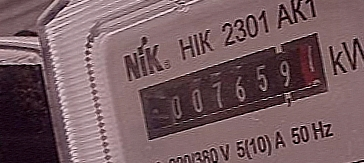0: (188, 86, 205, 115), (168, 91, 184, 121)
1: (302, 44, 318, 76)
5: (252, 62, 271, 96)
6: (231, 72, 248, 105)
7: (208, 77, 227, 111)
9: (275, 56, 295, 92)
screen: (119, 24, 351, 148)
